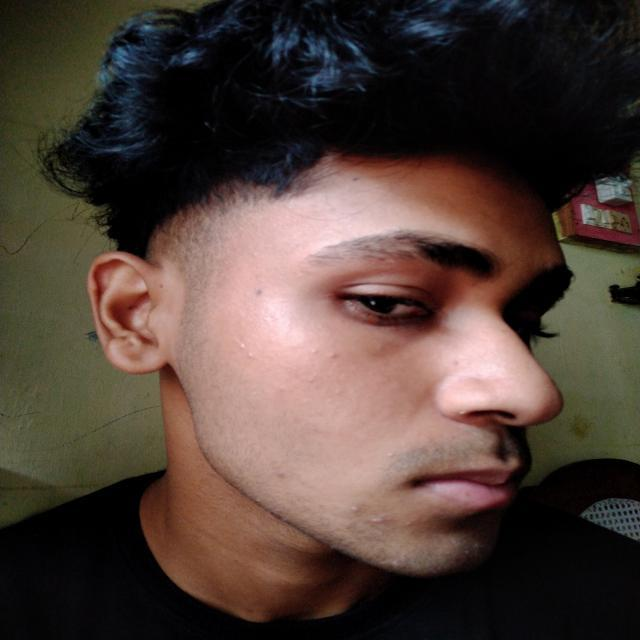Acne: (435, 346, 488, 374), (351, 502, 398, 530), (241, 278, 267, 308), (267, 464, 293, 492), (460, 536, 486, 556), (348, 174, 371, 196), (388, 552, 413, 572)
